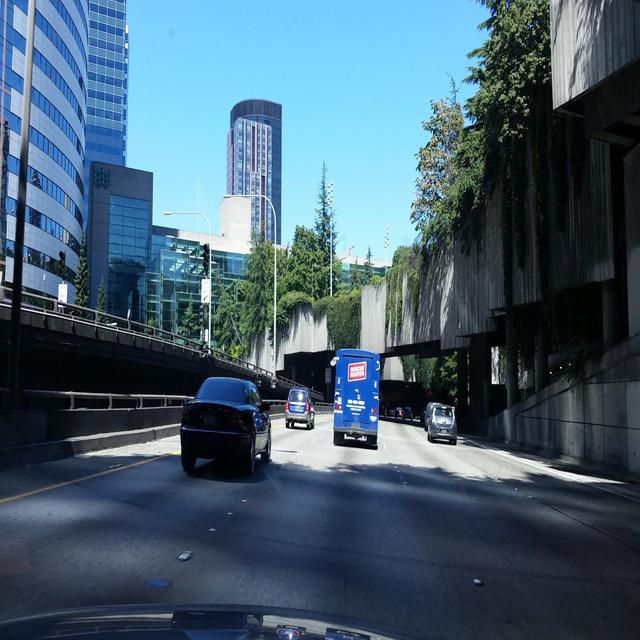Barrier: (131, 428, 331, 602), (380, 417, 486, 586), (0, 407, 181, 451), (434, 442, 532, 498), (268, 405, 332, 413)
Car: (180, 375, 270, 474), (378, 402, 457, 444), (286, 386, 314, 429)
Vegetation: (211, 217, 273, 362), (73, 223, 105, 311)
